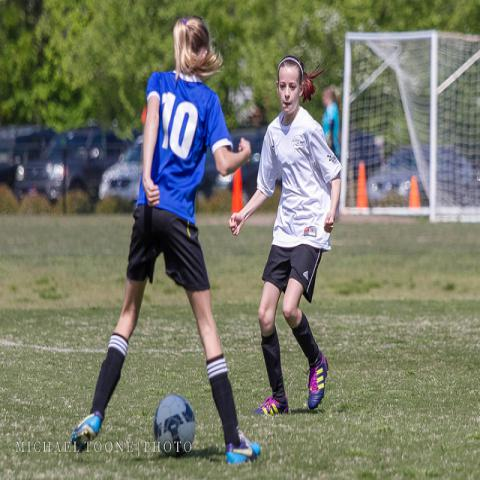car: (14, 127, 134, 207), (367, 143, 478, 209), (195, 128, 268, 202), (1, 126, 53, 195), (98, 134, 144, 203)
